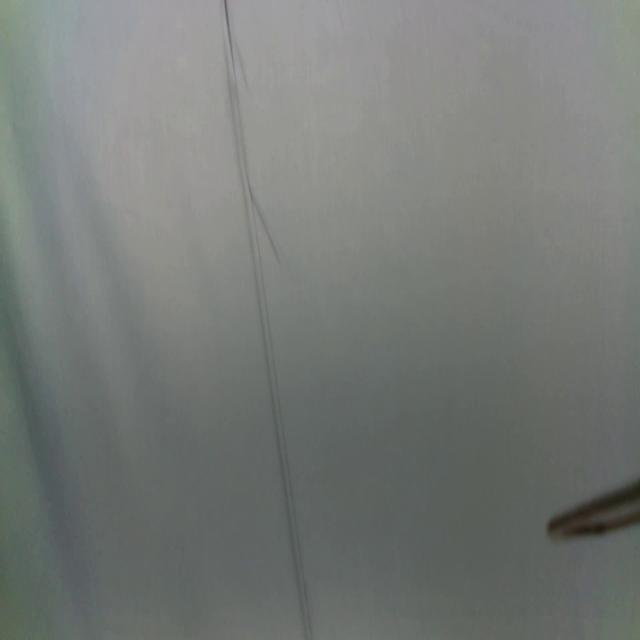crease: (223, 0, 314, 631)
